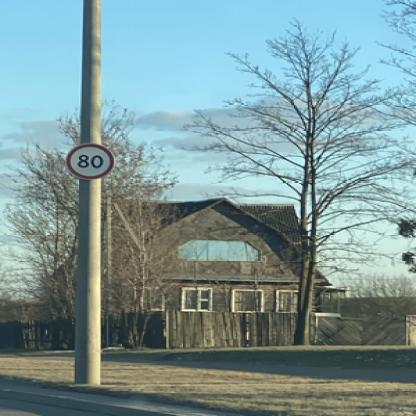Speed Limit 80: (68, 143, 112, 180)
